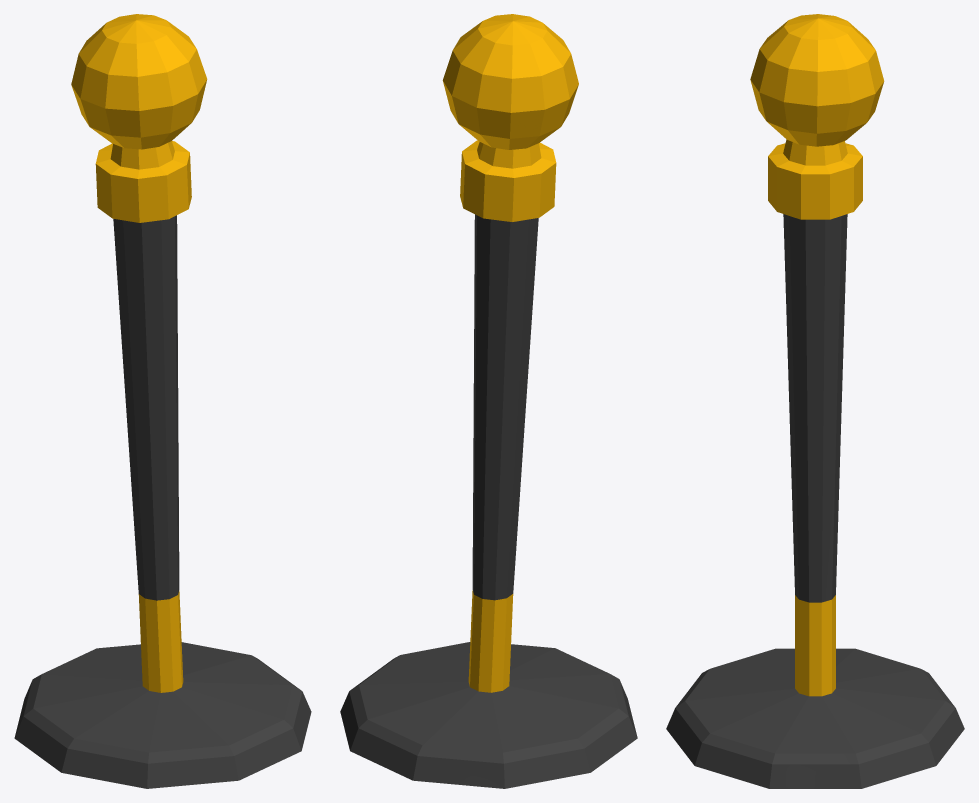
Rendered from Museum_Rope_stand.fbx.
3 renders of one model, left to right at view 1: azimuth 30°, elevation 25°; view 2: azimuth 150°, elevation 25°; view 3: azimuth 270°, elevation 25°, orthographic.
Visible parts, largest first — view 1: Cylinder; view 2: Cylinder; view 3: Cylinder.
Part boxes in pixels (x1=…): Cylinder: x1=14, y1=14, x2=311, y2=788; Cylinder: x1=340, y1=14, x2=637, y2=788; Cylinder: x1=666, y1=14, x2=964, y2=788.
Size of the model in its own units: 44.38 by 120 by 46.67.
